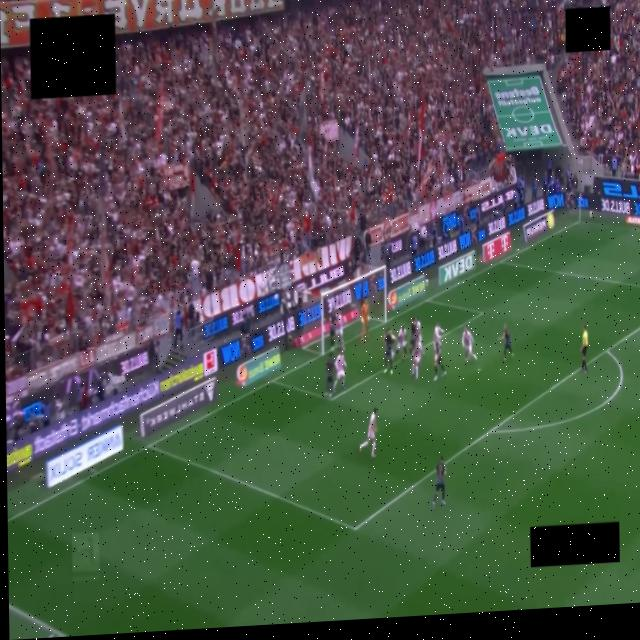player: (359, 408, 376, 457), (432, 456, 444, 508), (333, 349, 346, 393), (461, 326, 476, 361), (433, 340, 445, 381), (500, 324, 513, 360), (324, 351, 334, 397), (383, 329, 393, 374), (411, 342, 422, 379), (395, 325, 406, 359), (360, 299, 368, 343), (334, 312, 343, 350), (415, 319, 424, 354), (330, 312, 337, 352), (409, 317, 415, 354), (433, 322, 444, 341)
referee: (580, 323, 589, 374)
